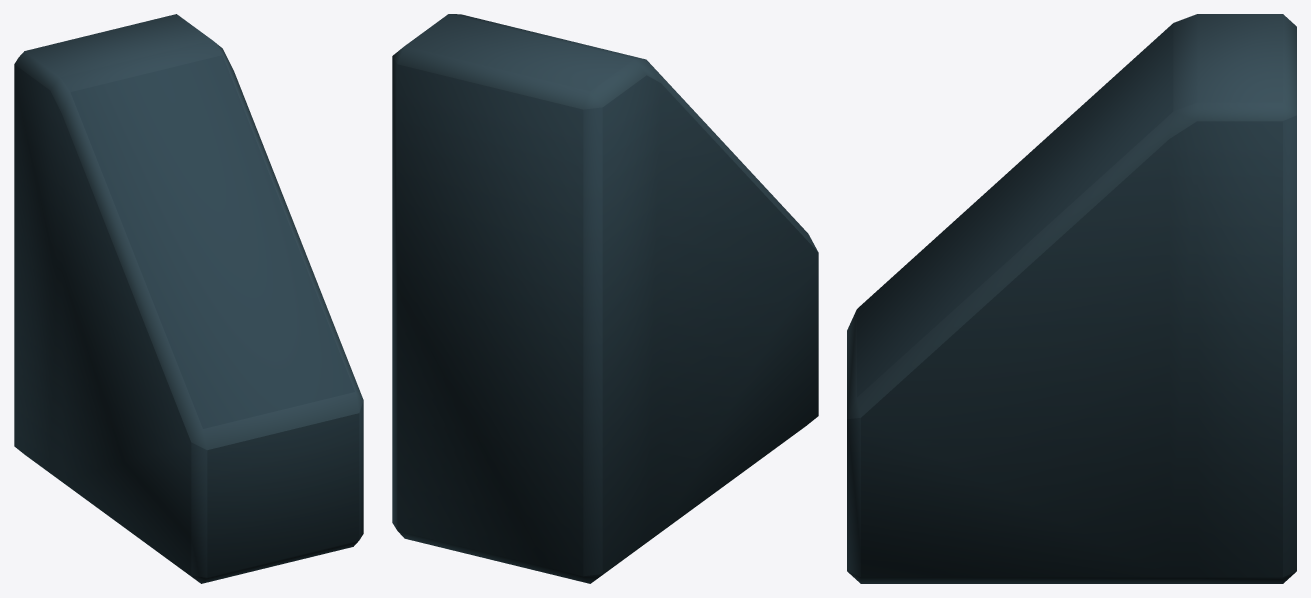
Rendered from stair_sidewall4.fbx.
The picture shows the model from 3 angles, left to right: view 1: azimuth 30°, elevation 25°; view 2: azimuth 150°, elevation 25°; view 3: azimuth 270°, elevation 25°; orthographic projection. The views are drawn at different scales.
Parts seen in each view (by area): view 1: stair_sidewall4; view 2: stair_sidewall4; view 3: stair_sidewall4.
Boxes of the visible parts, left/top/right/bottom form: stair_sidewall4: left=14, top=14, right=363, bottom=583; stair_sidewall4: left=392, top=14, right=818, bottom=583; stair_sidewall4: left=847, top=14, right=1296, bottom=583.
Bounding box in the file's own units: 53.12 × 119 × 101.
